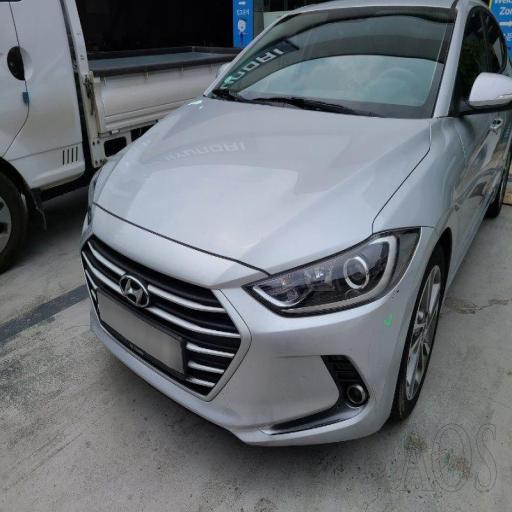dent: (412, 91, 494, 252)
